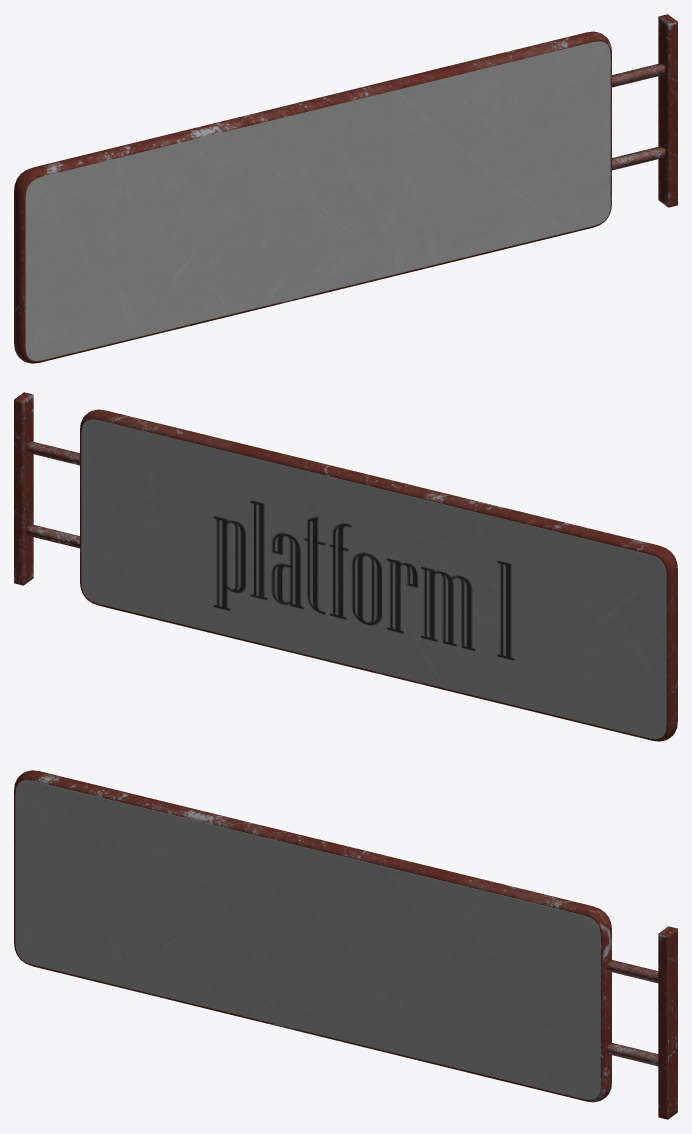
Rendered from SM_Sign1.FBX.
3 views of the same model, one above another, from view 1: azimuth 30°, elevation 25°; view 2: azimuth 150°, elevation 25°; view 3: azimuth 330°, elevation 25° (orthographic).
Visible parts, largest first — view 1: SM_Sign1; view 2: SM_Sign1; view 3: SM_Sign1.
Part boxes in pixels (x1,y1,x2,y2): SM_Sign1: (14, 14, 677, 363); SM_Sign1: (14, 392, 677, 741); SM_Sign1: (14, 770, 677, 1119).
Bounding box in the file's own units: 112 × 3 × 31.62.
